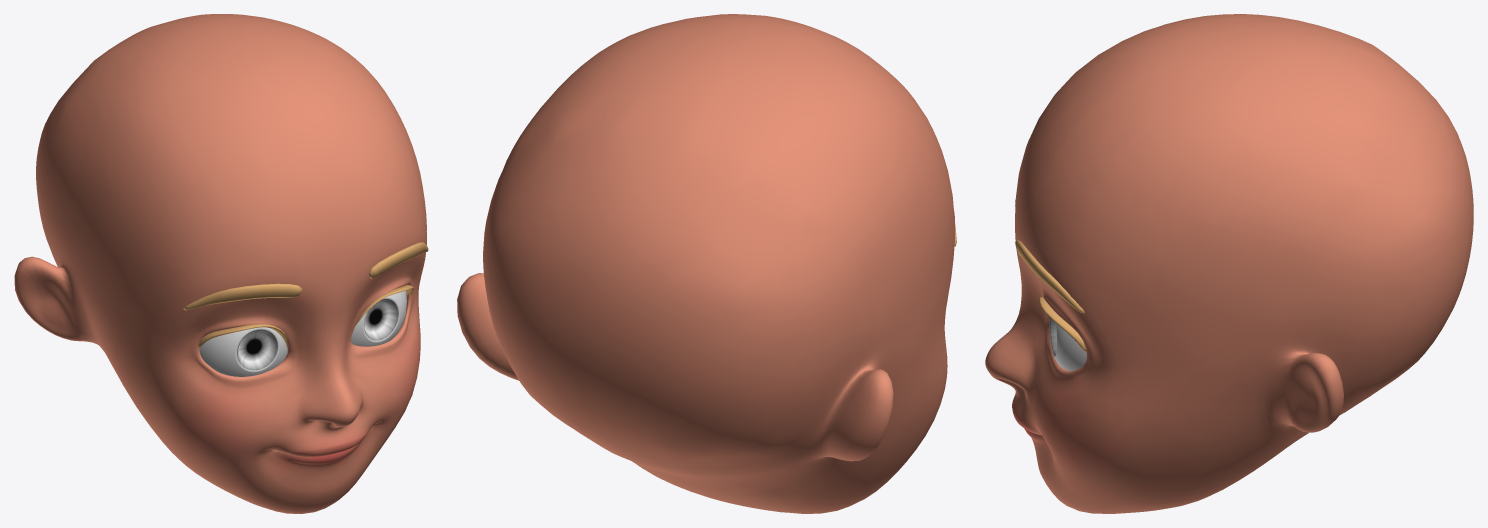
3 renders of one model, left to right at view 1: azimuth 30°, elevation 25°; view 2: azimuth 150°, elevation 25°; view 3: azimuth 270°, elevation 25°, orthographic. The views are drawn at different scales.
Visible parts, largest first — view 1: skin, eyes, brows, lashes; view 2: skin; view 3: skin, eyes, brows.
Boxes of the visible parts, <box> form: skin: <box>14,14,426,513</box>; eyes: <box>199,290,406,376</box>; brows: <box>183,242,428,310</box>; lashes: <box>198,285,413,347</box>; skin: <box>457,14,954,513</box>; skin: <box>985,14,1473,513</box>; eyes: <box>1049,318,1086,370</box>; brows: <box>1015,200,1084,313</box>.
Bounding box in the file's own units: 1.79 × 2 × 1.9.
9 materials, 2 textured.
